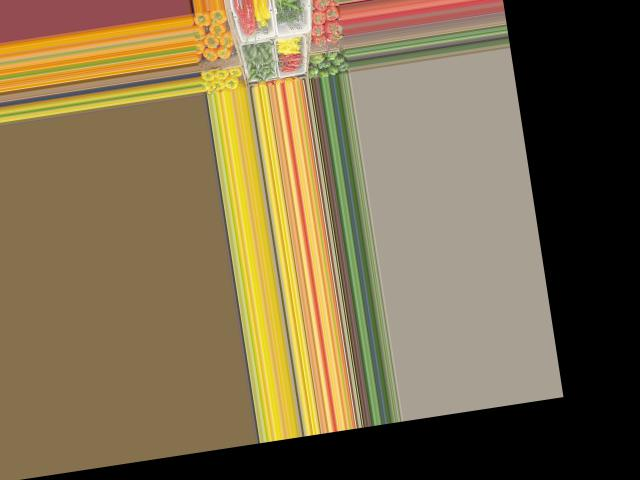bell_pepper: (323, 48, 339, 65)
